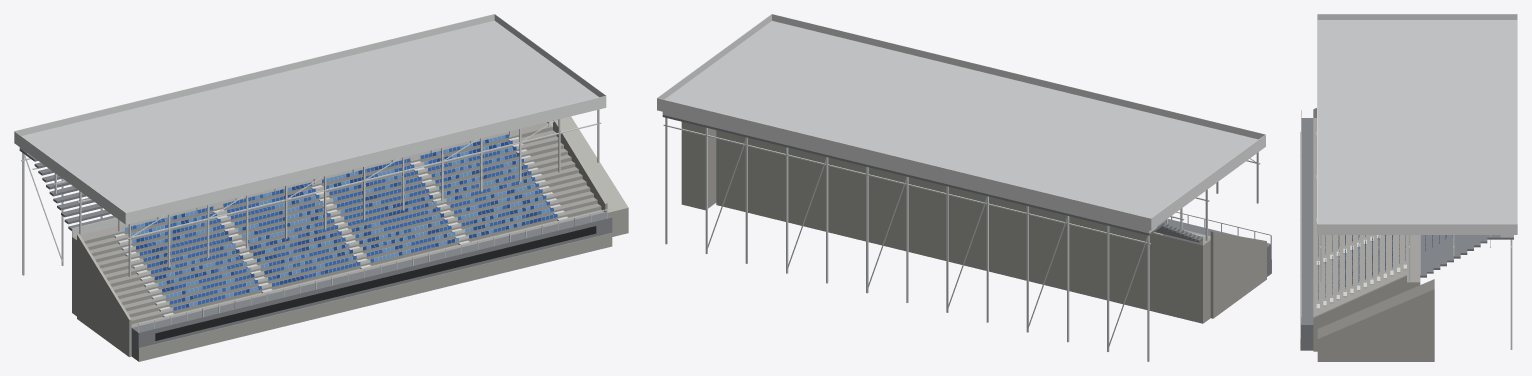
The model's file is spo_stand_ps_c.glb.
The picture shows the model from 3 angles, left to right: view 1: azimuth 30°, elevation 25°; view 2: azimuth 150°, elevation 25°; view 3: azimuth 270°, elevation 25°; orthographic projection. The views are drawn at different scales.
Parts seen in each view (by area): view 1: sao-paulo-pit-stop-club; view 2: sao-paulo-pit-stop-club; view 3: sao-paulo-pit-stop-club.
Part boxes in pixels (x1,y1,x2,y2): sao-paulo-pit-stop-club: [14, 14, 628, 361]; sao-paulo-pit-stop-club: [657, 14, 1271, 361]; sao-paulo-pit-stop-club: [1300, 14, 1517, 361].
Size of the model in its own units: 62.25 by 16.9 by 26.03.
